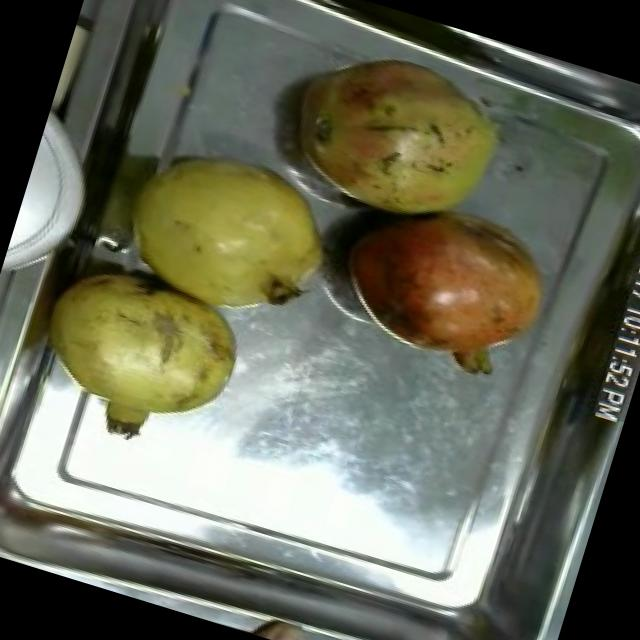fruit: (308, 168, 580, 408), (12, 244, 274, 476), (258, 19, 522, 248), (99, 119, 362, 345)
